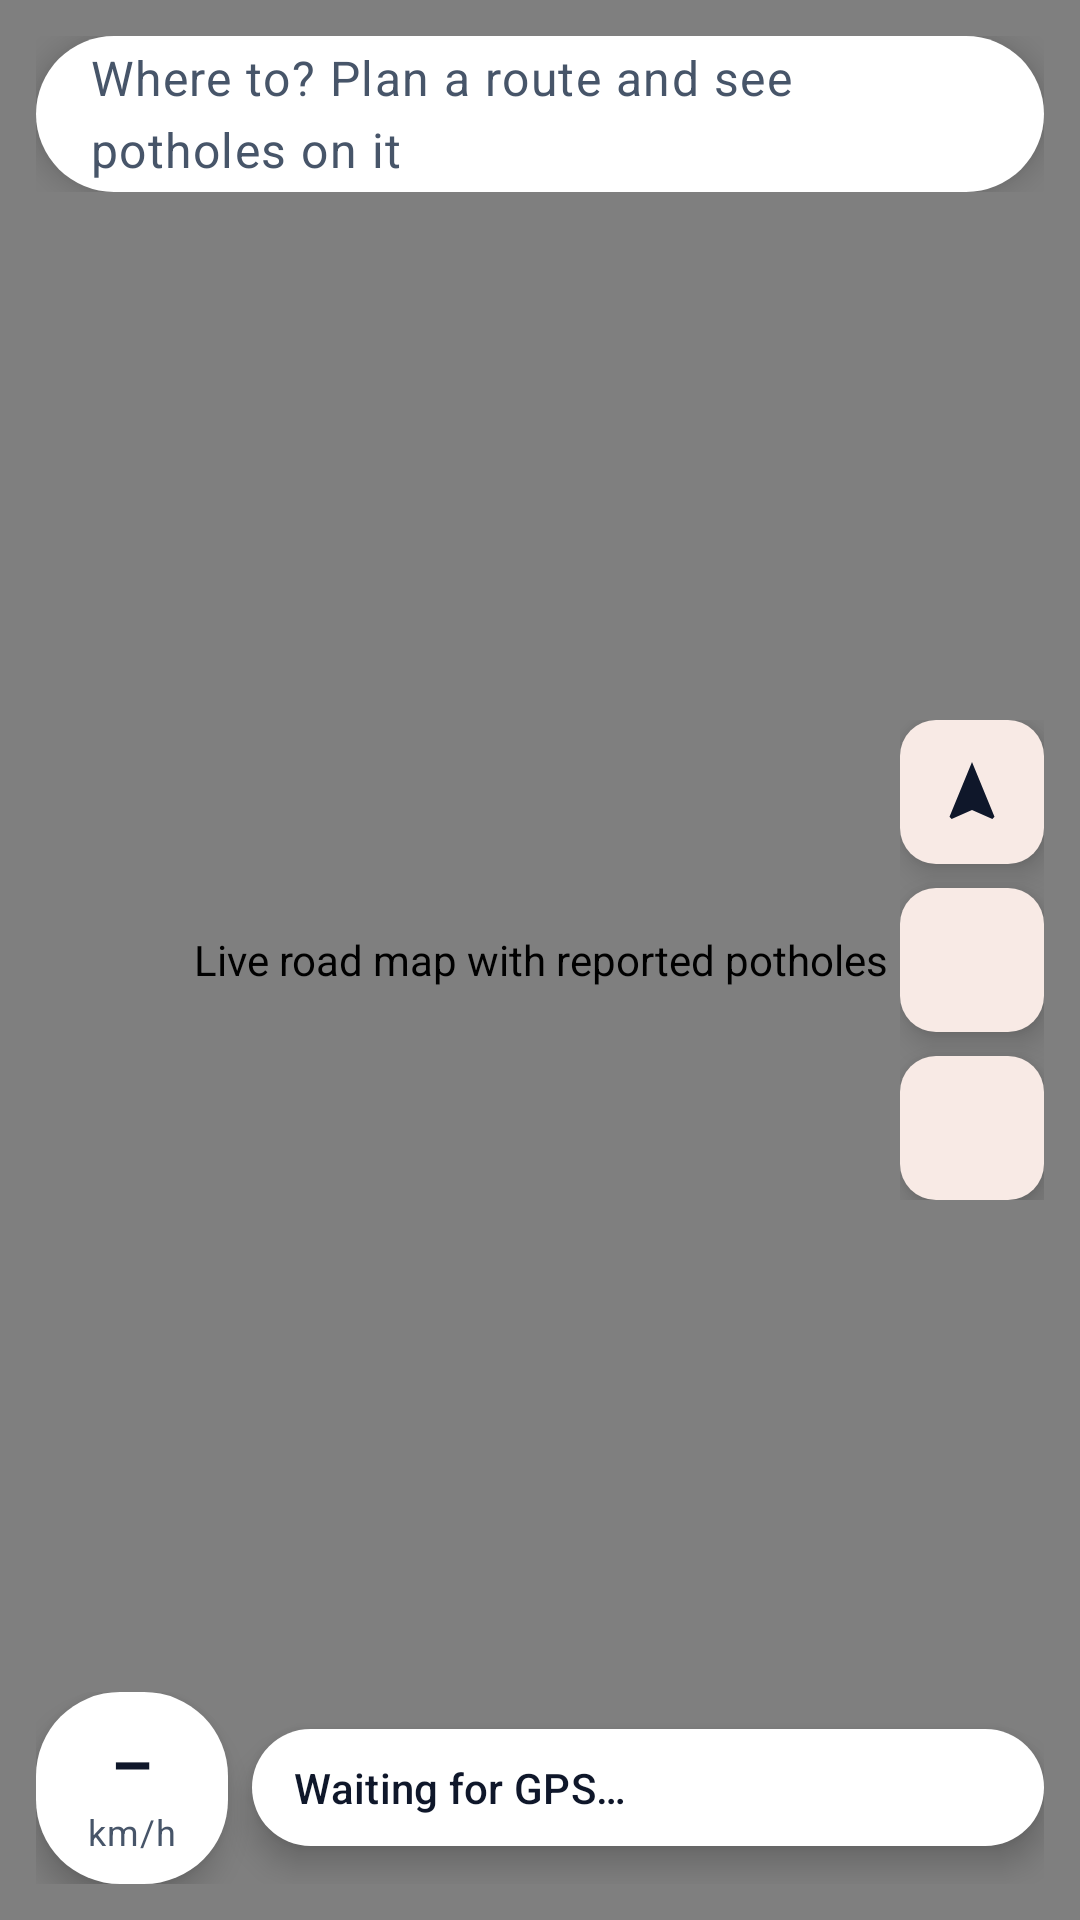

Screen size 1080x1920. Icon name, then its center in pixels as (x=x, y=y):
Heading up. Tap for north up: (x=972, y=792)
